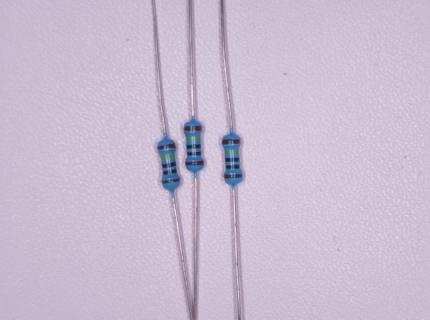Black band: (162, 162, 176, 168), (163, 169, 176, 175), (225, 158, 240, 162), (226, 165, 240, 169), (187, 145, 200, 148), (188, 152, 201, 155)
Brown band: (158, 144, 175, 150), (184, 126, 202, 131), (162, 179, 180, 184), (223, 140, 240, 145), (186, 161, 203, 166), (224, 175, 243, 179)
Yellow band: (161, 155, 175, 160), (187, 137, 200, 141), (225, 150, 239, 153)
